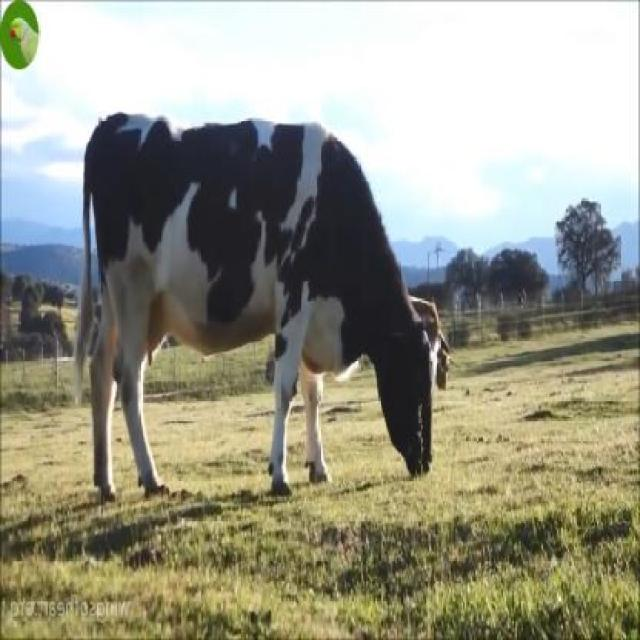Cow: (78, 112, 440, 483)
